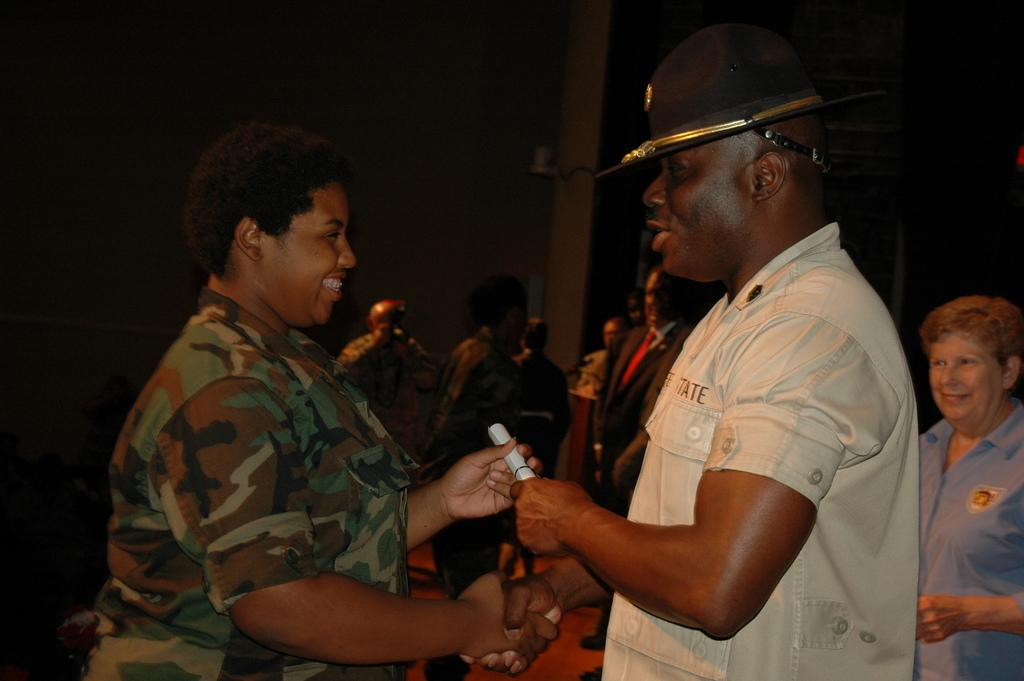Hat: (587, 24, 886, 188)
